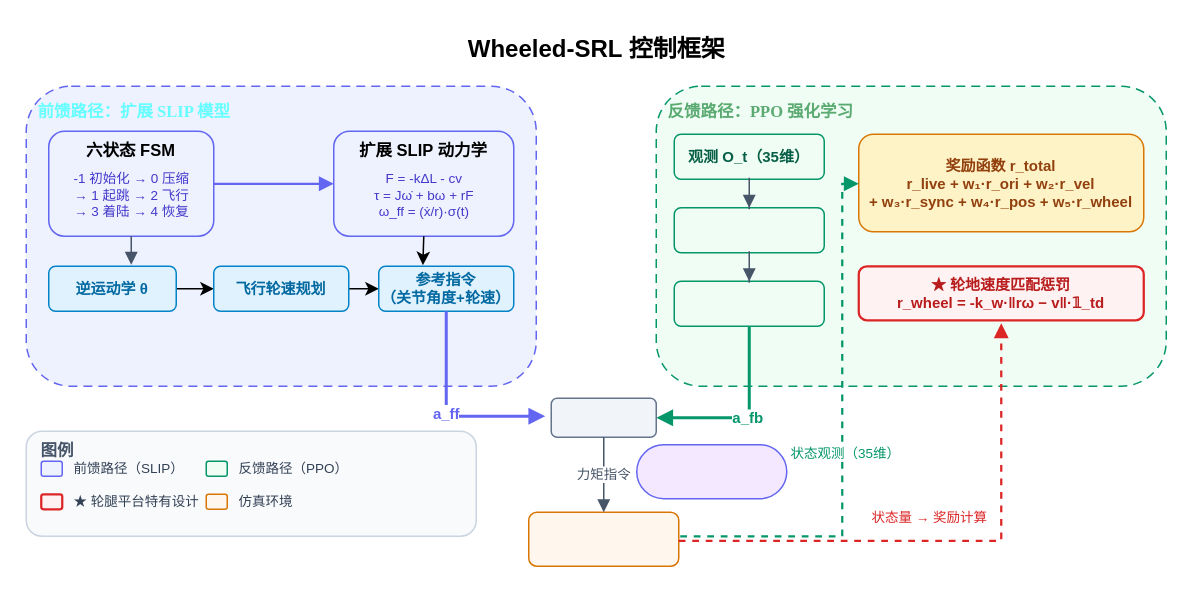
Image size: 1193x594. Some labels were removed from this diagram. The shapes that lost their labels are listed below. From the top down, each one's centre as x and y in pixels, then its label:
pixel 748 229: Actor 网络
pixel 748 303: 修正输出 a_fb
pixel 603 417: PD 控制器
pixel 711 471: 加权融合 a = a_ff + k_b·a_fb
pixel 603 538: xqrobotwl 两轮足机器人（MuJoCo）
